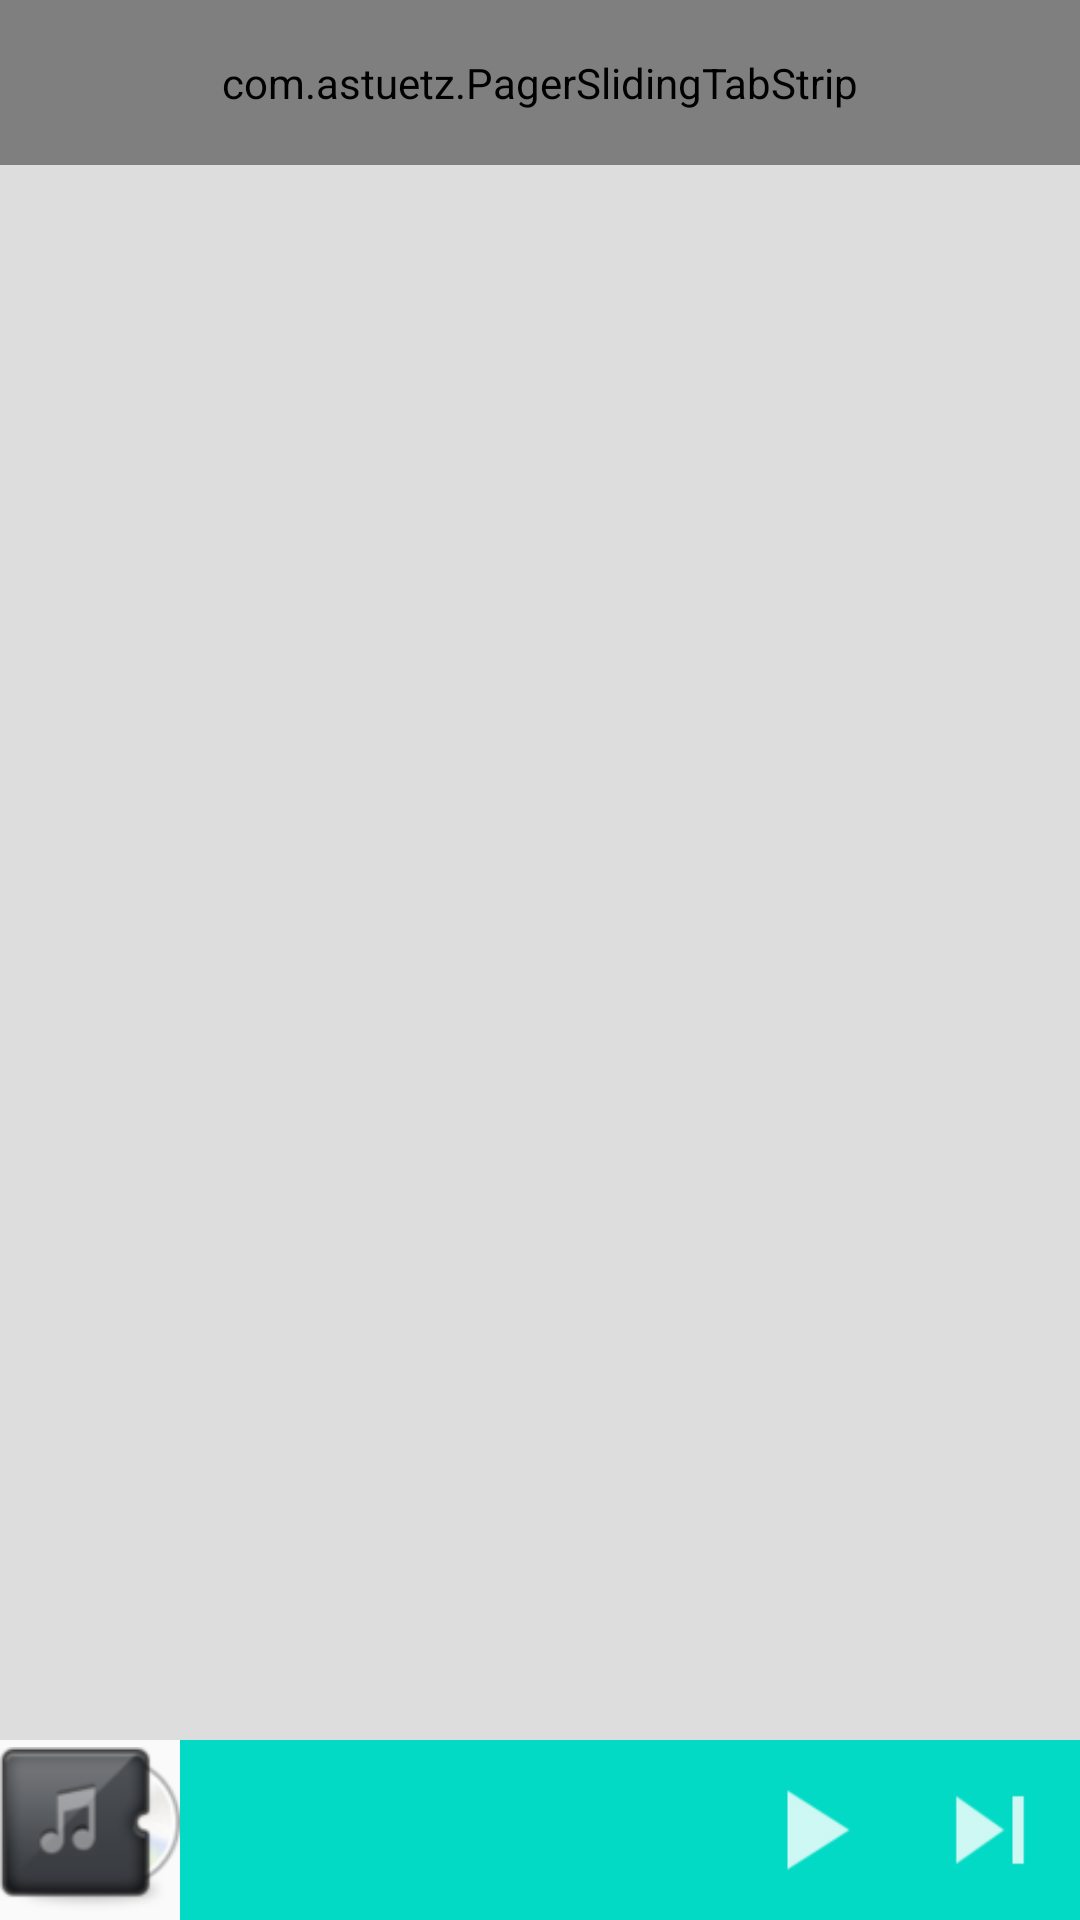

Where to tap for icons on this 1080 x 1920 app screen, as (x,y):
music next: (990,1830)
song play: (818,1830)
